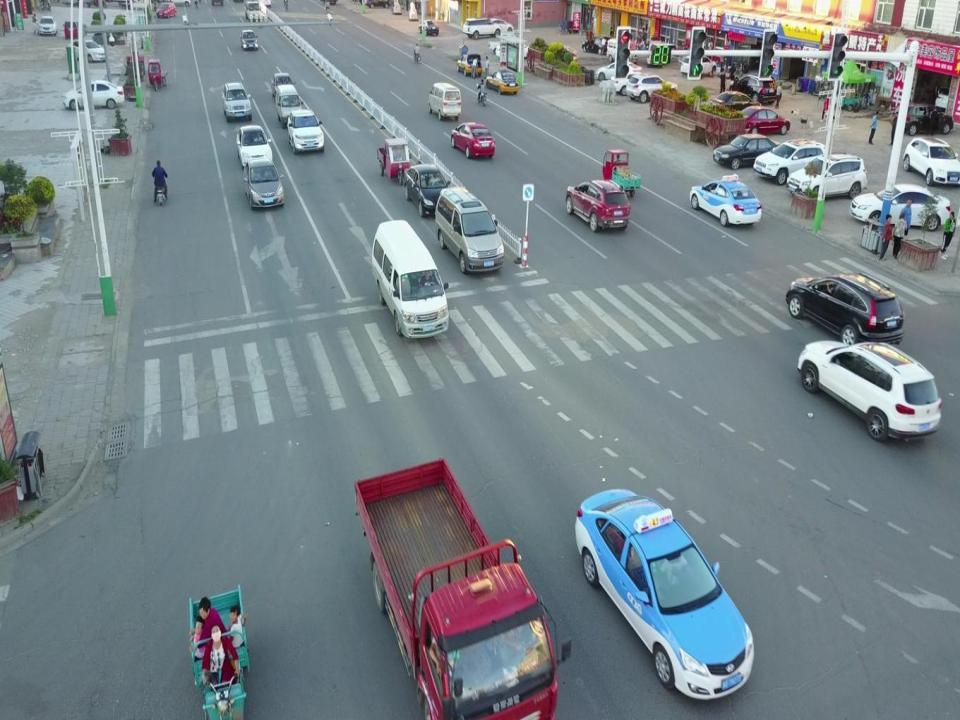car: (574, 487, 756, 699), (796, 338, 942, 443), (785, 272, 905, 348), (848, 184, 952, 232), (689, 173, 762, 227), (785, 152, 867, 200), (565, 178, 631, 233), (752, 137, 825, 186), (402, 162, 454, 217), (902, 136, 954, 187), (712, 134, 783, 170), (242, 158, 286, 210), (62, 79, 126, 110), (898, 102, 954, 134), (286, 109, 325, 154), (450, 121, 496, 159), (736, 105, 792, 136), (236, 124, 274, 168), (709, 90, 763, 120), (626, 72, 678, 102), (729, 75, 779, 106), (222, 82, 253, 121), (610, 71, 655, 96), (595, 59, 642, 81), (66, 39, 107, 62), (484, 69, 520, 95), (462, 17, 502, 39), (680, 54, 717, 75), (270, 72, 298, 99), (496, 40, 532, 60), (581, 35, 618, 53), (456, 52, 483, 76), (484, 17, 515, 35), (32, 16, 57, 35), (240, 29, 258, 51), (156, 2, 176, 19), (418, 19, 439, 35), (364, 0, 390, 9)
truck: (353, 457, 575, 720), (489, 32, 516, 55), (244, 1, 261, 21)
van: (371, 218, 449, 342), (434, 186, 506, 275), (427, 82, 462, 121), (274, 84, 304, 128), (606, 38, 638, 63), (646, 39, 664, 67), (63, 19, 83, 38)
